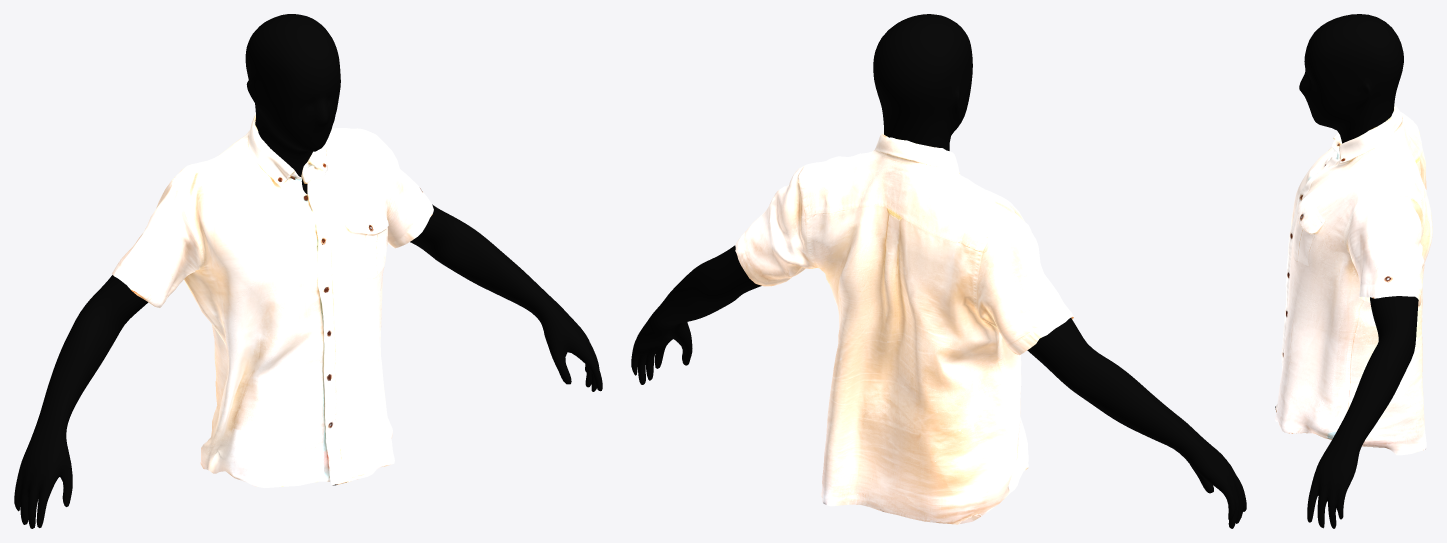
Rendered from good.glb.
3 renders of one model, left to right at view 1: azimuth 30°, elevation 25°; view 2: azimuth 150°, elevation 25°; view 3: azimuth 270°, elevation 25°, orthographic. The views are drawn at different scales.
Parts seen in each view (by area): view 1: Object_2, Object_3; view 2: Object_2, Object_3; view 3: Object_2, Object_3.
Part boxes in pixels (x1,y1,x2,y2): Object_2: (112,114,433,487); Object_3: (14,14,602,528); Object_2: (735,133,1073,524); Object_3: (631,14,1246,528); Object_2: (1275,104,1432,455); Object_3: (1299,14,1418,528).
Bounding box in the file's own units: 124 × 92.54 × 32.38.
Materials: 2 (1 with a texture image).
